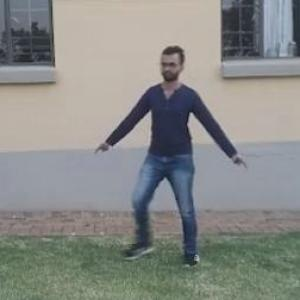land: (105, 46, 250, 248)
